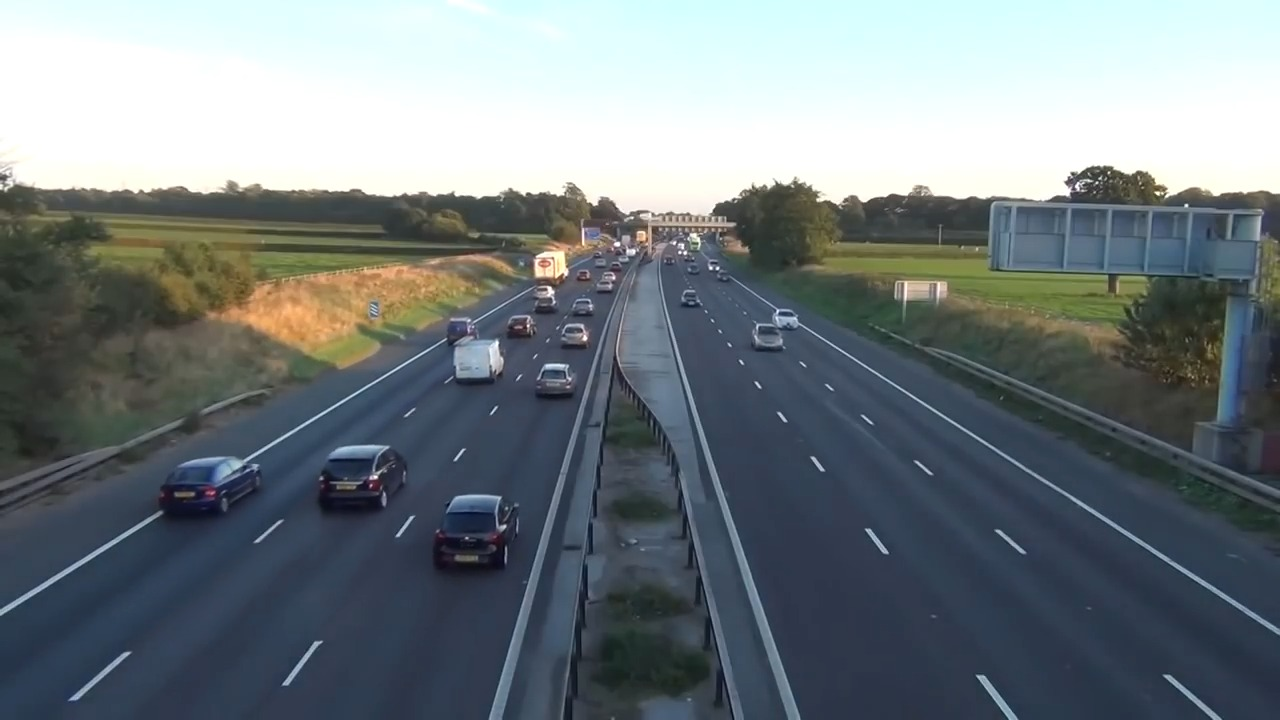truck: (445, 332, 508, 384), (530, 245, 570, 287)
